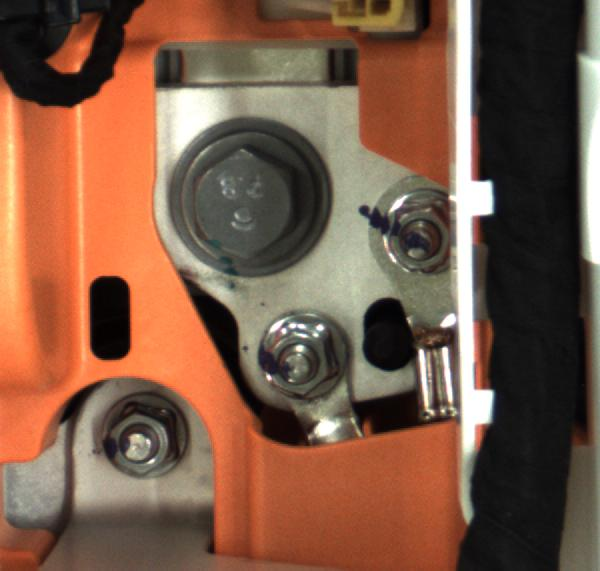nut_b: (161, 127, 338, 278)
screw_s: (252, 306, 357, 408), (92, 389, 198, 478), (377, 180, 462, 277)
